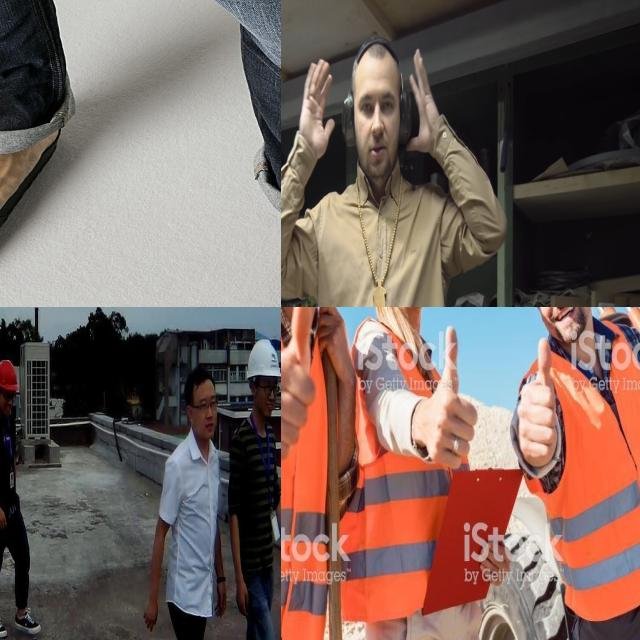Ear-protection: (338, 35, 415, 180)
No_Ear-Protection: (178, 357, 219, 441), (243, 334, 280, 424), (0, 358, 20, 424)
No_Glasses: (355, 79, 399, 118)
Sandals: (0, 107, 52, 305)
face_nomask: (532, 307, 595, 339)
hand_noglove: (424, 324, 480, 470), (281, 307, 327, 465), (514, 342, 562, 469)
person: (343, 307, 501, 640), (516, 307, 640, 640)
vest: (354, 324, 481, 612), (545, 330, 640, 621), (281, 307, 343, 640)
